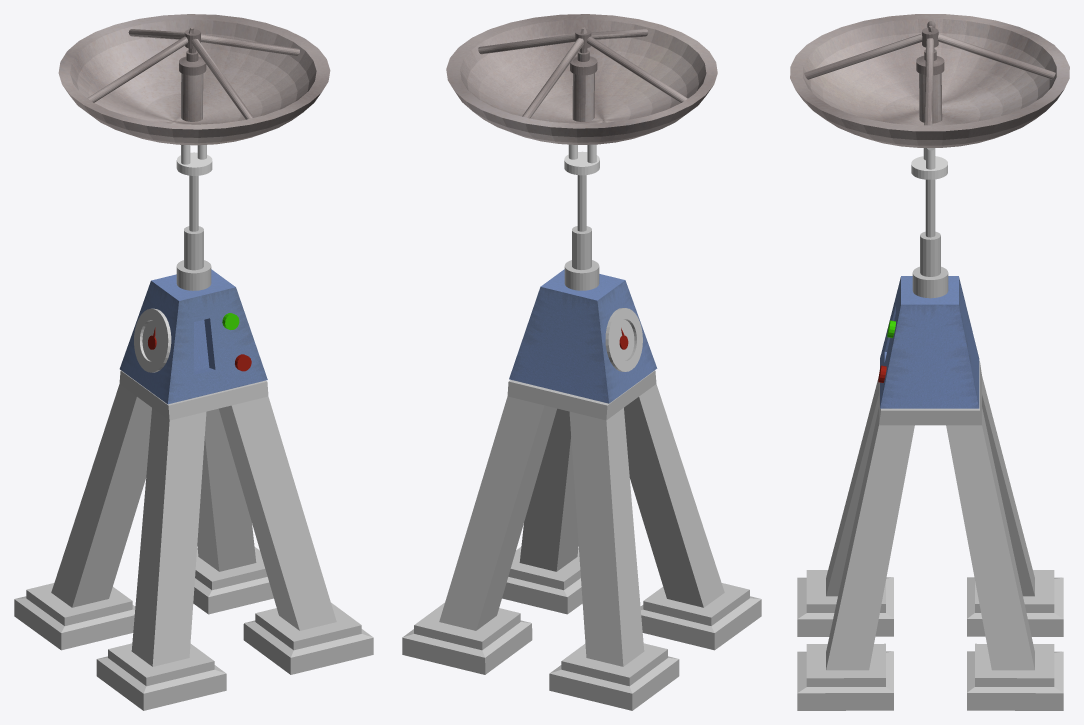
The model's file is antena azul new.fbx.
The picture shows the model from 3 angles, left to right: view 1: azimuth 30°, elevation 25°; view 2: azimuth 150°, elevation 25°; view 3: azimuth 270°, elevation 25°; orthographic projection. The views are drawn at different scales.
Parts seen in each view (by area): view 1: Cylinder.003, Cylinder.002, Cylinder.010, Plane, Cylinder.012, Cylinder.008, Cylinder.004, Cylinder.001; view 2: Cylinder.003, Cylinder.002, Cylinder.010, Plane, Cylinder.012, Cylinder.008, Cylinder.004, Cylinder.001; view 3: Cylinder.003, Cylinder.002, Cylinder.010, Plane, Cylinder.012, Cylinder.008, Cylinder.001.
Part boxes in pixels (x1,y1,x2,y2): Cylinder.003: (51,370,336,666); Cylinder.002: (58,14,330,145); Cylinder.010: (14,547,373,710); Plane: (119,269,267,404); Cylinder.012: (87,27,299,121); Cylinder.008: (176,175,211,290); Cylinder.004: (134,308,171,372); Cylinder.001: (176,145,212,175); Cylinder.003: (439,370,724,666); Cylinder.002: (446,14,717,144); Cylinder.010: (402,547,761,710); Plane: (509,269,657,403); Cylinder.012: (478,27,687,121); Cylinder.008: (564,175,599,290); Cylinder.004: (605,308,642,371); Cylinder.001: (564,144,599,175); Cylinder.003: (826,361,1034,670); Cylinder.002: (790,14,1069,147); Cylinder.010: (797,570,1063,710); Plane: (880,276,979,408); Cylinder.012: (804,21,1055,125); Cylinder.008: (912,179,948,298); Cylinder.001: (911,148,947,179).
Bounding box in the file's own units: 845 × 2097 × 850.
